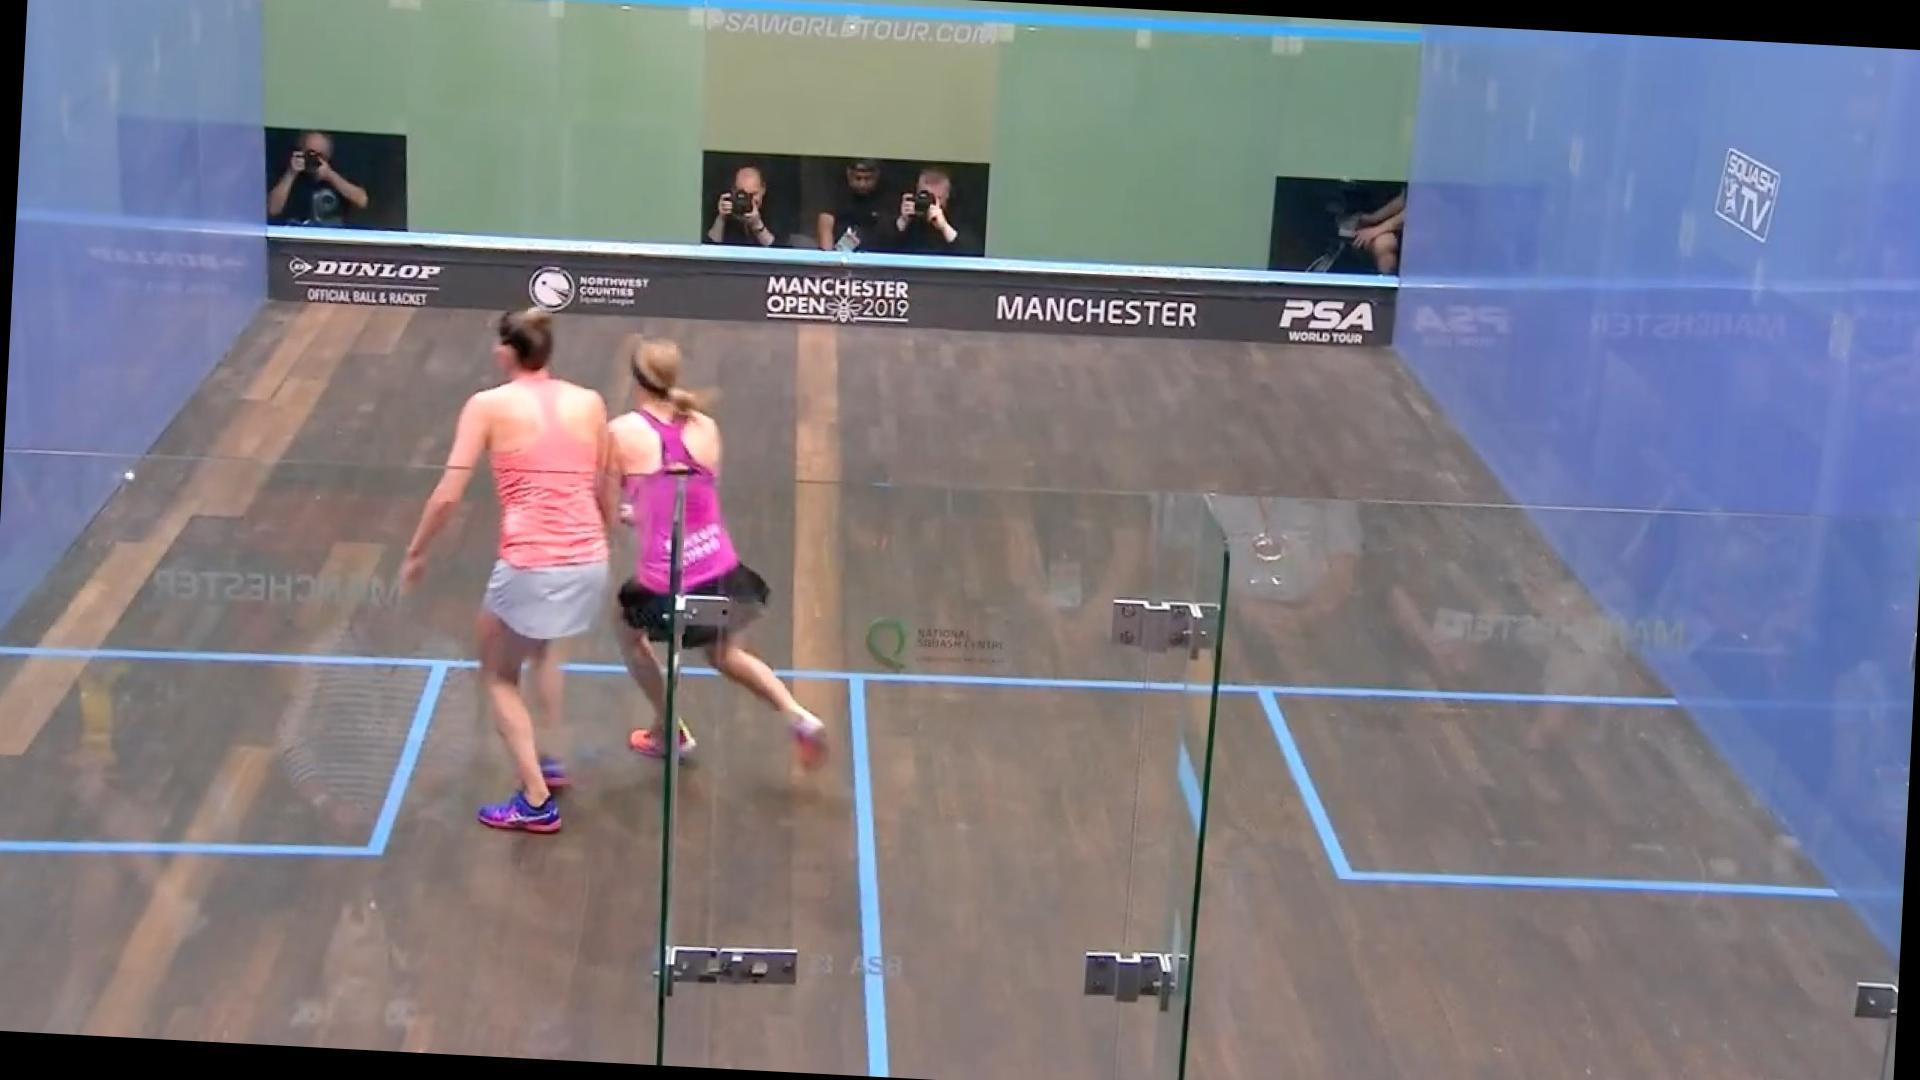Squash-Ball: (103, 448, 153, 505)
